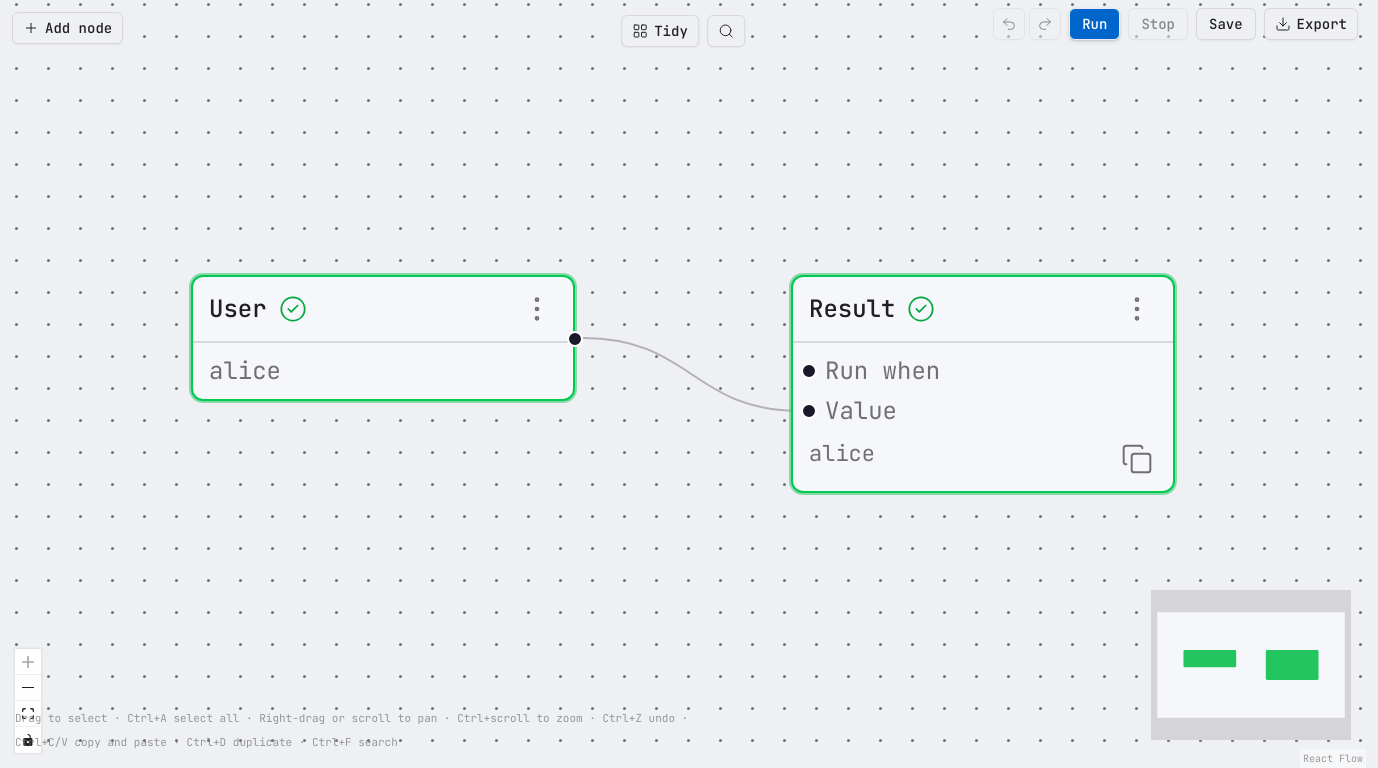
Test: FlowPane partial runs › keeps results outside the run and marks them as earlier results
This screenshot has width=1378, height=768.
Click the button named "Edit Result": [1137, 309] box [1117,289,1157,329]
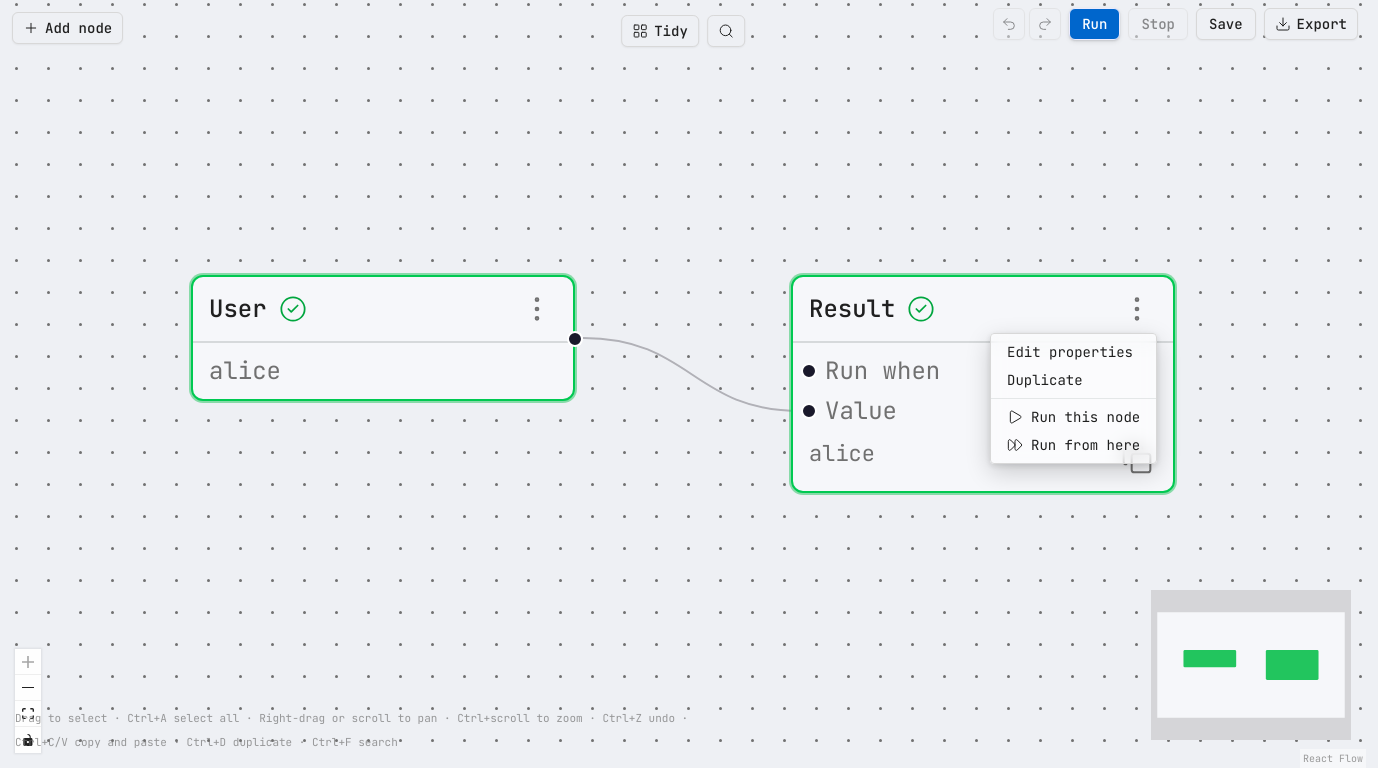
Click the menu item "Run this node": [1074, 417] box [1007,408,1140,426]
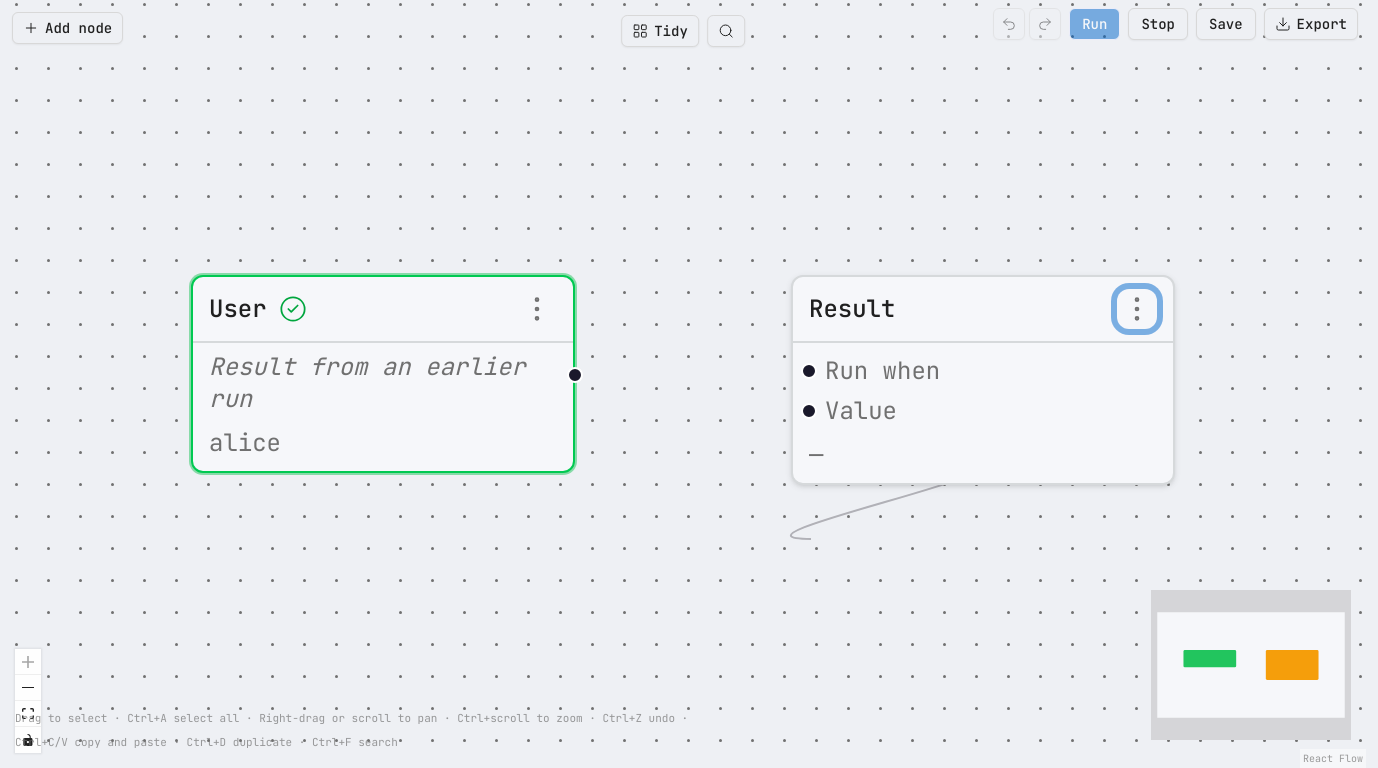
Check: the text with test id "node-cached-caption" reads "Result from an earlier run", box [209,351,526,415]
